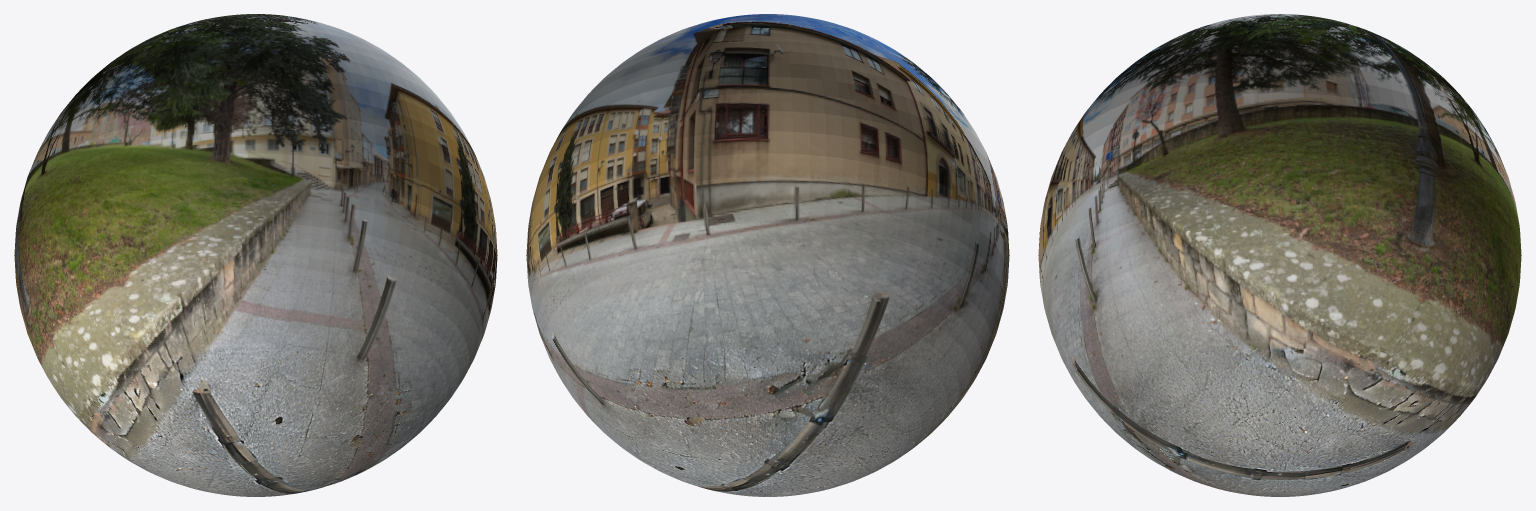
File: Calle_Cabelleros_360.glb
3 views of the same model, side by side, from view 1: azimuth 30°, elevation 25°; view 2: azimuth 150°, elevation 25°; view 3: azimuth 270°, elevation 25° (orthographic).
Bounding box in the file's own units: 2 × 2 × 2.
Materials: 1 (1 with a texture image).
